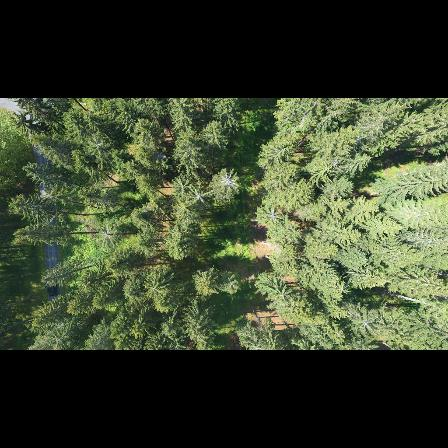Sick: (214, 166, 242, 200), (353, 308, 381, 338), (142, 276, 171, 300), (38, 183, 65, 206), (87, 134, 110, 157), (190, 184, 210, 208), (262, 206, 285, 225)
